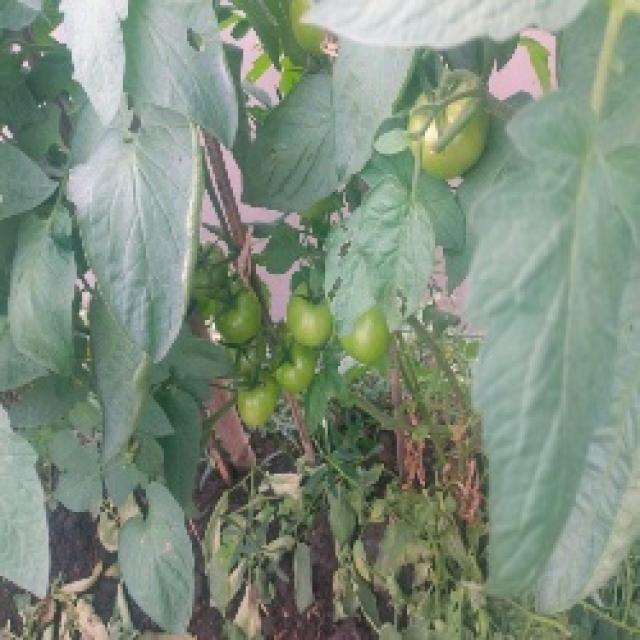tomato: (405, 66, 490, 174), (230, 377, 286, 454), (289, 282, 337, 356), (214, 277, 267, 343), (344, 314, 395, 364), (278, 347, 332, 393), (221, 338, 269, 388), (196, 234, 230, 302)
